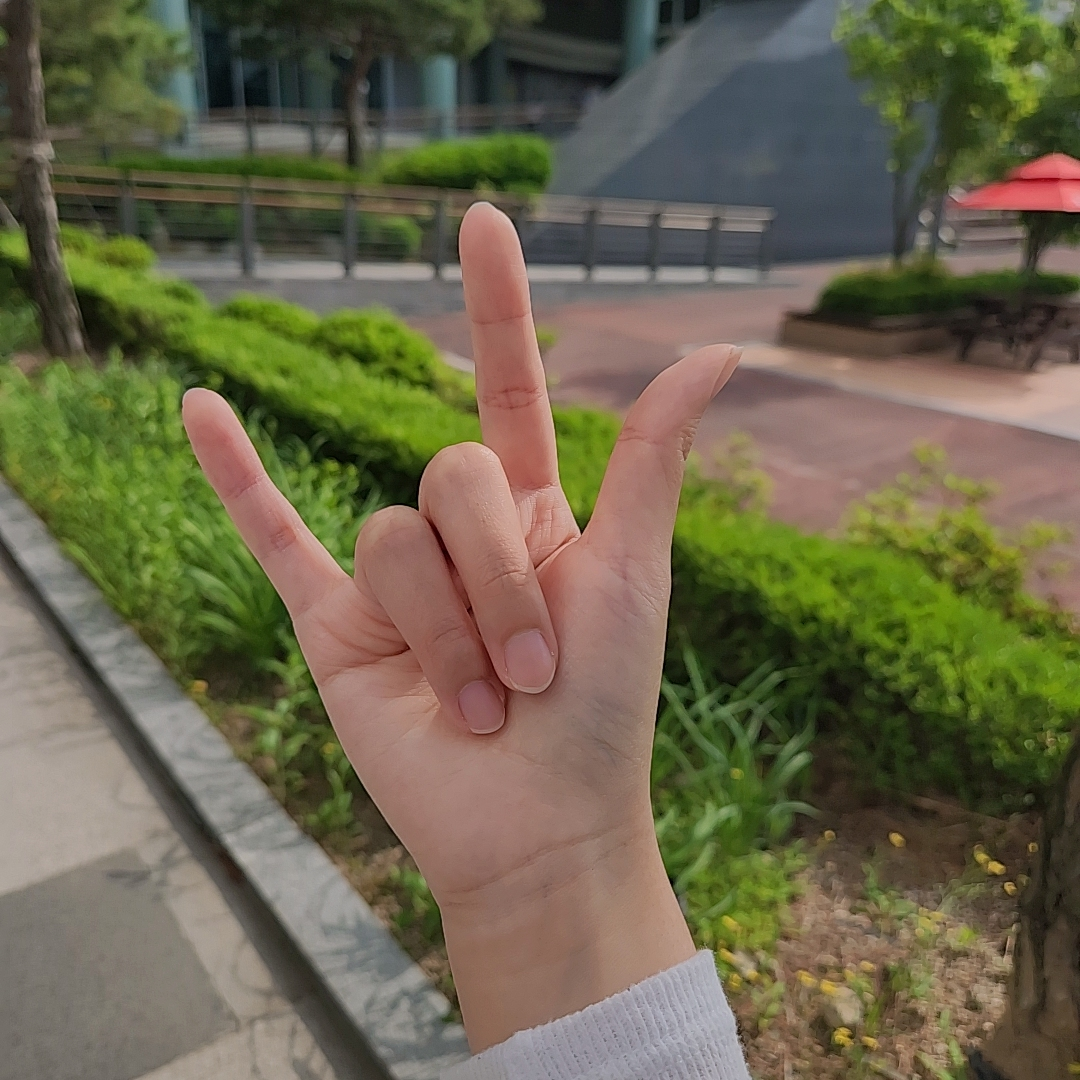iloveyou: (179, 199, 741, 872)
